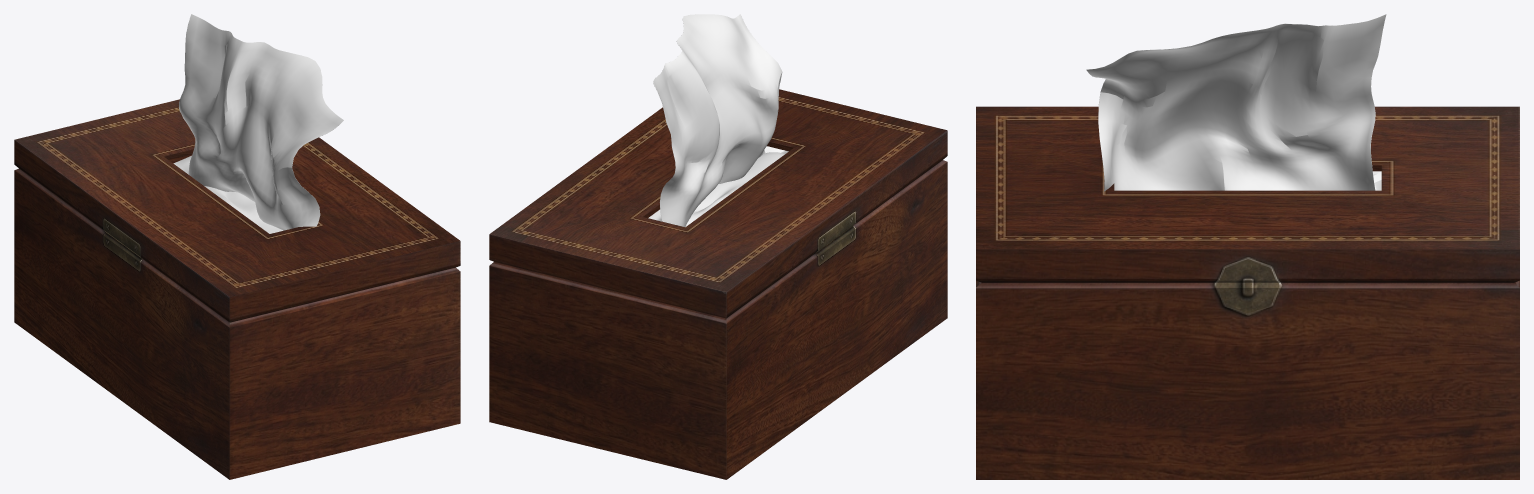
The model's file is L2_Tissue.fbx.
3 renders of one model, left to right at view 1: azimuth 30°, elevation 25°; view 2: azimuth 150°, elevation 25°; view 3: azimuth 270°, elevation 25°, orthographic. The views are drawn at different scales.
Visible parts, largest first — view 1: L2_LR_TissueBox; view 2: L2_LR_TissueBox; view 3: L2_LR_TissueBox.
Part boxes in pixels (x1,y1,x2,y2): L2_LR_TissueBox: [14, 14, 460, 479]; L2_LR_TissueBox: [489, 14, 947, 479]; L2_LR_TissueBox: [976, 14, 1519, 479].
Size of the model in its own units: 0.127 by 0.1667 by 0.205.
2 materials, 1 textured.
